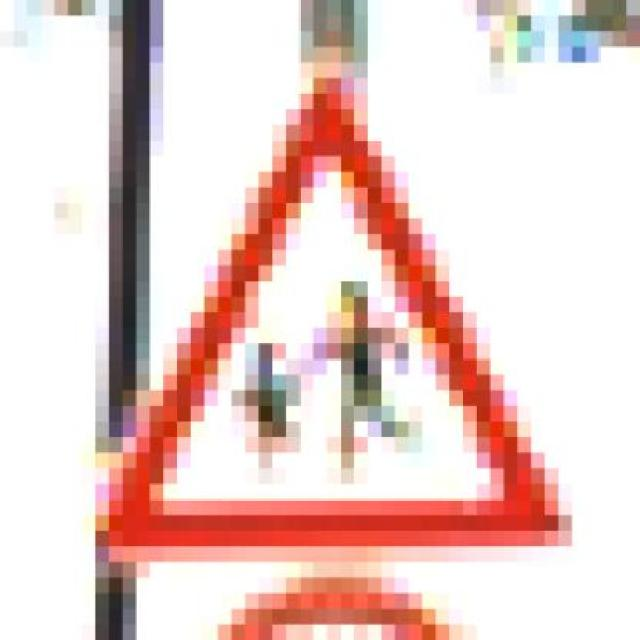Beware of children: (68, 62, 586, 578)
